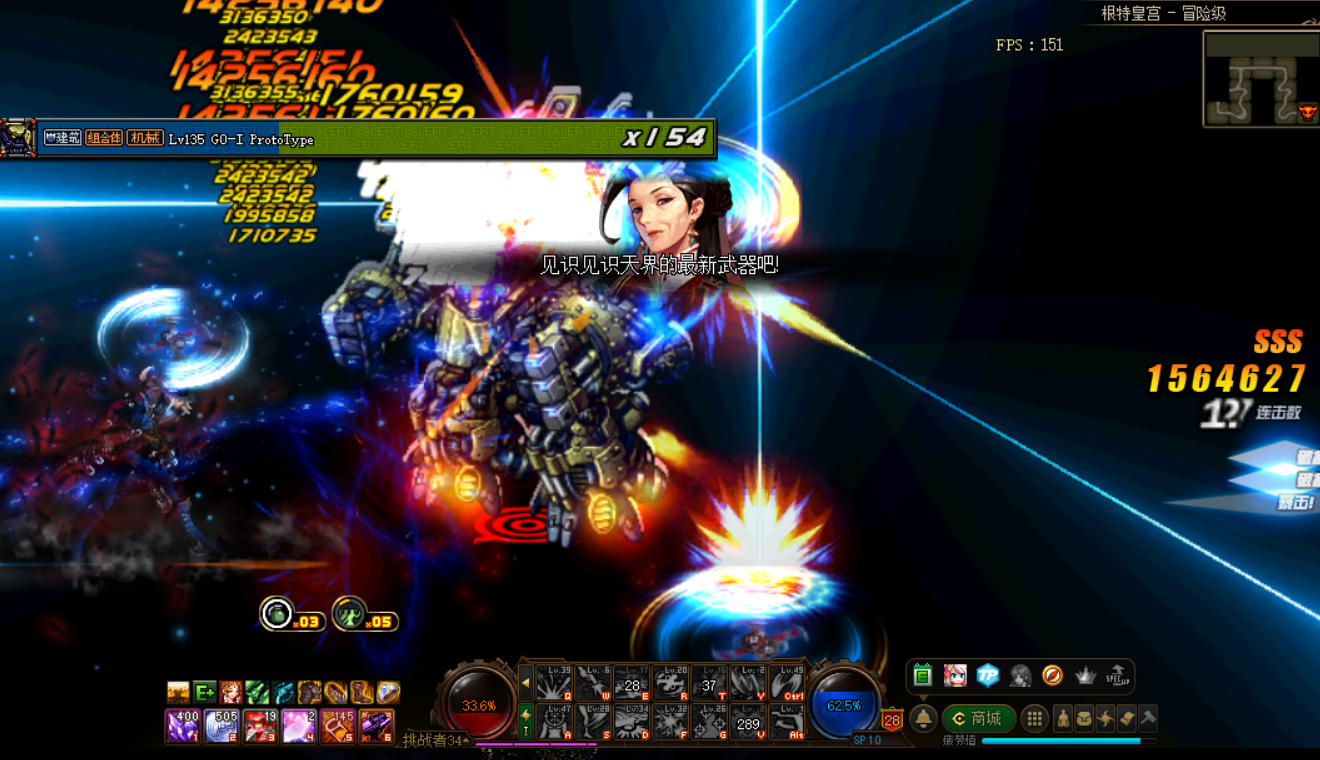boss: (325, 165, 709, 538)
warrior: (51, 348, 216, 590)
